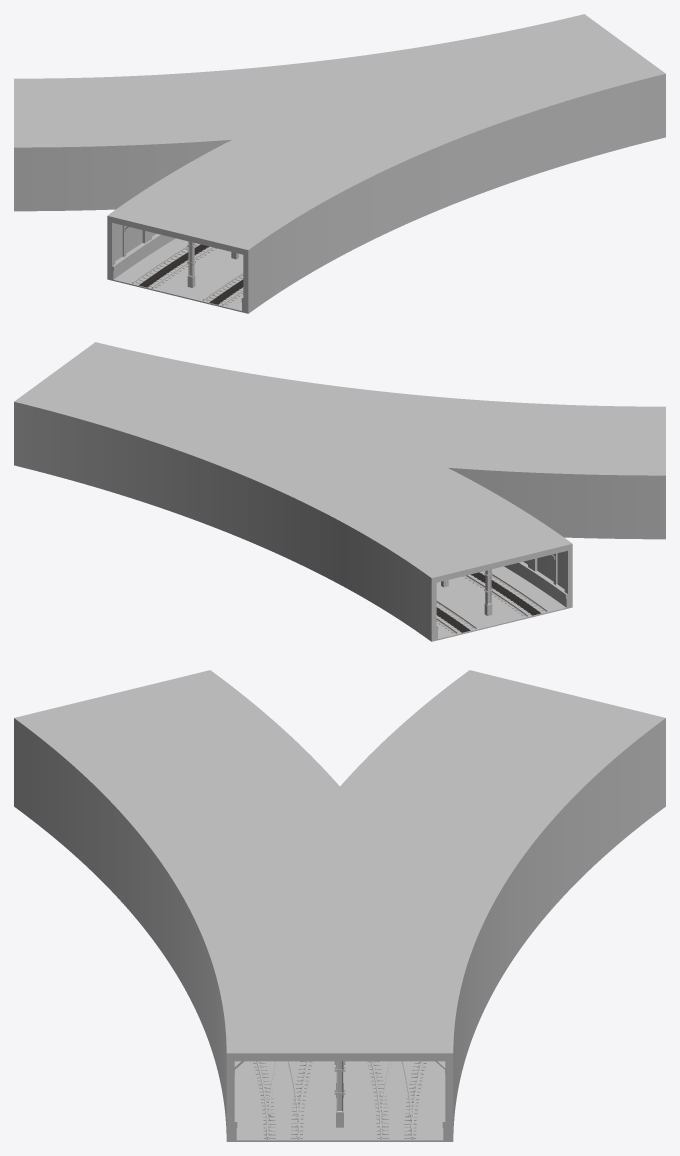
The model's file is SM_Tunnel_Y_Long_B_L.fbx.
3 views of the same model, one above another, from view 1: azimuth 30°, elevation 25°; view 2: azimuth 150°, elevation 25°; view 3: azimuth 270°, elevation 25° (orthographic). The views are drawn at different scales.
Parts seen in each view (by area): view 1: SM_Tunnel_Y_Long_B_L; view 2: SM_Tunnel_Y_Long_B_L; view 3: SM_Tunnel_Y_Long_B_L.
Part boxes in pixels (left/top/right/bottom): SM_Tunnel_Y_Long_B_L: left=14, top=14, right=665, bottom=313; SM_Tunnel_Y_Long_B_L: left=14, top=342, right=665, bottom=641; SM_Tunnel_Y_Long_B_L: left=14, top=670, right=665, bottom=1141.
Size of the model in its own units: 4800 by 517 by 3451.
